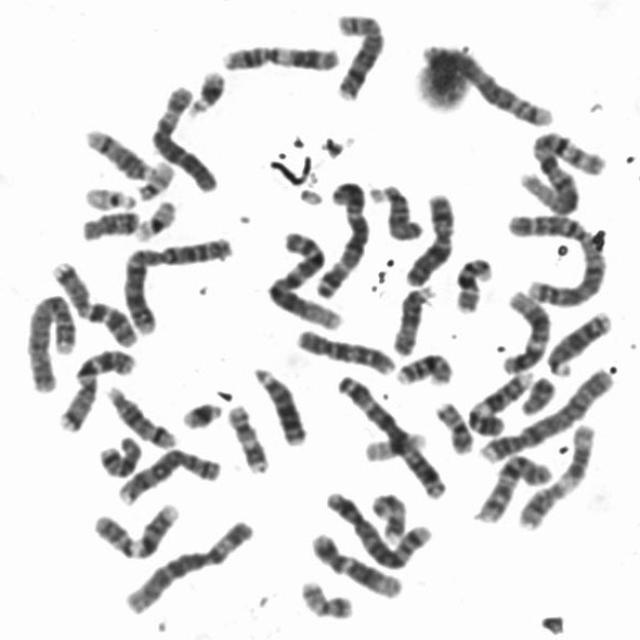A1: (513, 124, 609, 216), (263, 226, 346, 332)
A2: (119, 229, 239, 337), (500, 208, 610, 310)
A3: (331, 368, 448, 500), (311, 175, 372, 300)
B4: (478, 364, 618, 465), (24, 290, 80, 394)
B5: (412, 37, 556, 129), (320, 486, 434, 572)
C10: (469, 450, 554, 526), (292, 325, 398, 378)
C11: (516, 417, 602, 532), (216, 38, 344, 74)
C12: (308, 527, 406, 600), (497, 285, 552, 376)
C6: (119, 514, 258, 616), (145, 79, 221, 195)
C7: (47, 255, 143, 349), (53, 343, 140, 435)
C8: (113, 443, 226, 506), (329, 6, 389, 103)
C9: (89, 497, 183, 562), (465, 366, 536, 438)
D13: (247, 360, 309, 448), (544, 304, 617, 377)
D14: (102, 380, 180, 451), (79, 122, 159, 182)
D15: (388, 280, 438, 358), (370, 179, 424, 243)
E16: (450, 252, 495, 315), (390, 348, 455, 388)
E17: (222, 400, 272, 476), (368, 489, 411, 543)
E18: (92, 430, 144, 480), (77, 205, 143, 242)
F19: (359, 426, 429, 464), (128, 194, 178, 244)
F20: (294, 573, 358, 622), (431, 396, 478, 456)
G21: (181, 64, 228, 119), (176, 396, 226, 432)
G22: (132, 155, 178, 201), (78, 180, 140, 212)
X: (401, 188, 458, 288)
Y: (516, 370, 560, 417)
